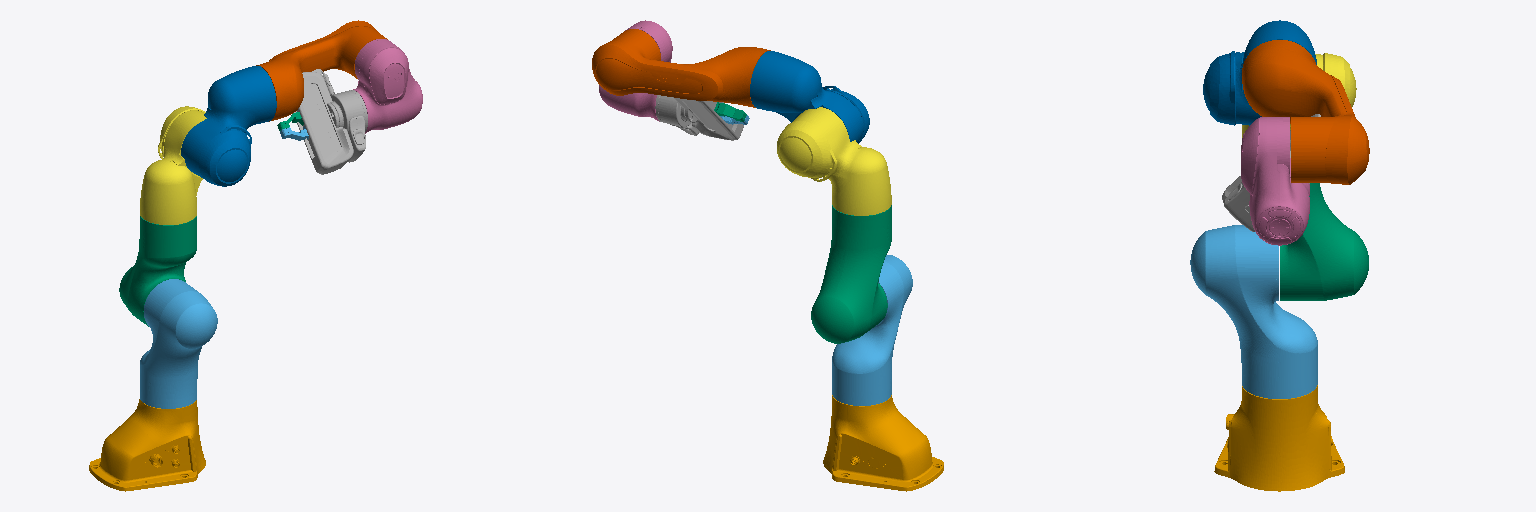
robot.urdf — panda:
<?xml version='1.0' encoding='utf-8'?>
<robot name="panda">

	<link name="link0">
		<inertial>
			<origin xyz="0 0 0.05" rpy="0 0 0" />
			<mass value="4" />
			<inertia ixx="0.4" iyy="0.4" izz="0.4" ixy="0" ixz="0" iyz="0" />
		</inertial>
		<visual>
			<geometry>
				<mesh filename="meshes/visual/link0.obj"/>
			</geometry>
		</visual>
		<!-- <collision>
			<geometry>
				<mesh filename="meshes/collision/link0.obj"/>
			</geometry>
		</collision> -->
	</link>
	<link name="link1">
		<inertial>
			<origin xyz="0 0 -0.07" rpy="0 -0 0" />
			<mass value="3" />
			<inertia ixx="0.3" iyy="0.3" izz="0.3" ixy="0" ixz="0" iyz="0" />
		</inertial>
		<visual>
			<geometry>
				<mesh filename="meshes/visual/link1.obj"/>
			</geometry>
		</visual>
		<!-- <collision>
			<geometry>
				<mesh filename="meshes/collision/link1.obj"/>
			</geometry>
		</collision> -->
	</link>
	<link name="link2">
		<inertial>
			<origin xyz="0 -0.1 0" rpy="0 -0 0" />
			<mass value="3" />
			<inertia ixx="0.3" iyy="0.3" izz="0.3" ixy="0" ixz="0" iyz="0" />
		</inertial>
		<visual>
			<geometry>
				<mesh filename="meshes/visual/link2.obj"/>
			</geometry>
		</visual>
		<!-- <collision>
			<geometry>
				<mesh filename="meshes/collision/link2.obj"/>
			</geometry>
		</collision> -->
	</link>
	<link name="link3">
		<inertial>
			<origin xyz="0.04 0 -0.05" rpy="0 -0 0" />
			<mass value="2" />
			<inertia ixx="0.2" iyy="0.2" izz="0.2" ixy="0" ixz="0" iyz="0" />
		</inertial>
		<visual>
			<geometry>
				<mesh filename="meshes/visual/link3.obj"/>
			</geometry>
		</visual>
		<!-- <collision>
			<geometry>
				<mesh filename="meshes/collision/link3.obj"/>
			</geometry>
		</collision> -->
	</link>
	<link name="link4">
		<inertial>
			<origin xyz="-0.04 0.05 0" rpy="0 -0 0" />
			<mass value="2" />
			<inertia ixx="0.2" iyy="0.2" izz="0.2" ixy="0" ixz="0" iyz="0" />
		</inertial>
		<visual>
			<geometry>
				<mesh filename="meshes/visual/link4.obj"/>
			</geometry>
		</visual>
		<!-- <collision>
			<geometry>
				<mesh filename="meshes/collision/link4.obj"/>
			</geometry>
		</collision> -->
	</link>
	<link name="link5">
		<inertial>
			<origin xyz="0 0 -0.15" rpy="0 -0 0" />
			<mass value="2" />
			<inertia ixx="0.2" iyy="0.2" izz="0.2" ixy="0" ixz="0" iyz="0" />
		</inertial>
		<visual>
			<geometry>
				<mesh filename="meshes/visual/link5.obj"/>
			</geometry>
		</visual>
		<!-- <collision>
			<geometry>
				<mesh filename="meshes/collision/link5.obj"/>
			</geometry>
		</collision> -->
	</link>
	<link name="link6">
		<inertial>
			<origin xyz="0.06 0 0" rpy="0 -0 0" />
			<mass value="1.5" />
			<inertia ixx="0.1" iyy="0.1" izz="0.1" ixy="0" ixz="0" iyz="0" />
		</inertial>
		<visual>
			<geometry>
				<mesh filename="meshes/visual/link6.obj"/>
			</geometry>
		</visual>
		<!-- <collision>
			<geometry>
				<mesh filename="meshes/collision/link6.obj"/>
			</geometry>
		</collision> -->
	</link>
	<link name="link7">
		<inertial>
			<origin xyz="0 0 0.17" rpy="0 -0 0" />
			<mass value="1.8" />
			<inertia ixx="0.09" iyy="0.05" izz="0.07" ixy="0" ixz="0" iyz="0" />
		</inertial>
		<visual>
			<geometry>
				<mesh filename="meshes/visual/link7.obj"/>
			</geometry>
		</visual>
		<!-- <collision>
			<geometry>
				<mesh filename="meshes/collision/link7.obj"/>
			</geometry>
		</collision> -->
		<visual>
			<origin xyz="0 0 0.107" rpy="0 0 -0.78539816339" />
			<geometry>
				<mesh filename="meshes/visual/hand.obj"/>
			</geometry>
		</visual>
		<!-- <collision>
			<origin xyz="0 0 0.107" rpy="0 0 -0.78539816339" />
			<geometry>
				<mesh filename="meshes/collision/hand.obj"/>
			</geometry>
		</collision> -->
	</link>
	<link name="end-effector">
		<inertial>
			<origin xyz="0 0 0" rpy="0 -0 0" />
			<mass value="0.05" />
			<inertia ixx="0.01" iyy="0.01" izz="0.01" ixy="0" ixz="0" iyz="0" />
		</inertial>
	</link>

    <link name="leftfinger">
		<inertial>
			<origin xyz="0 0 0.05" rpy="0 -0 0" />
			<mass value="0.1" />
			<inertia ixx="0.01" iyy="0.01" izz="0.005" ixy="0" ixz="0" iyz="0" />
		</inertial>
		<visual>
			<geometry>
				<mesh filename="meshes/visual/finger.obj"/>
			</geometry>
		</visual>
		<!-- <collision>
			<geometry>
				<mesh filename="meshes/collision/finger.obj"/>
			</geometry>
		</collision> -->
		<collision>
			<origin xyz="0 0.0025 0.046" rpy="1.57079632679 -0 0" />
			<geometry>
				<cylinder radius="0.008" length="0.005"/>
			</geometry>
		</collision>
	</link>
	<link name="rightfinger">
		<inertial>
			<origin xyz="0 0 0.05" rpy="0 -0 0" />
			<mass value="0.1" />
			<inertia ixx="0.01" iyy="0.01" izz="0.005" ixy="0" ixz="0" iyz="0" />
		</inertial>
		<visual>
			<geometry>
				<mesh filename="meshes/visual/finger.obj"/>
			</geometry>
		</visual>
		<!-- <collision>
			<geometry>
				<mesh filename="meshes/collision/finger.obj"/>
			</geometry>
		</collision> -->
		<collision>
			<origin xyz="0 0.0025 0.046" rpy="1.57079632679 -0 0" />
			<geometry>
				<cylinder radius="0.008" length="0.005"/>
			</geometry>
		</collision>
    </link>

	<joint name="joint1" type="revolute">
		<safety_controller k_position="100.0" k_velocity="40.0" soft_lower_limit="-2.8973" soft_upper_limit="2.8973"/>
		<origin rpy="0 0 0" xyz="0 0 0.333"/>
		<parent link="link0"/>
		<child link="link1"/>
		<axis xyz="0 0 1"/>
		<calibration falling="0.0" />
		<limit effort="87" lower="-2.8973" upper="2.8973" velocity="2.1750"/>
	</joint>
	<joint name="joint2" type="revolute">
		<safety_controller k_position="100.0" k_velocity="40.0" soft_lower_limit="-1.7628" soft_upper_limit="1.7628"/>
		<origin rpy="-1.57079632679 0 0" xyz="0 0 0"/>
		<parent link="link1"/>
		<child link="link2"/>
		<axis xyz="0 0 1"/>
		<calibration falling="-25.0" />
		<limit effort="87" lower="-1.7628" upper="1.7628" velocity="2.1750"/>
	</joint>
	<joint name="joint3" type="revolute">
		<safety_controller k_position="100.0" k_velocity="40.0" soft_lower_limit="-2.8973" soft_upper_limit="2.8973"/>
		<origin rpy="1.57079632679 0 0" xyz="0 -0.316 0"/>
		<parent link="link2"/>
		<child link="link3"/>
		<axis xyz="0 0 1"/>
		<limit effort="87" lower="-2.8973" upper="2.8973" velocity="2.1750"/>
	</joint>
	<joint name="joint4" type="revolute">
		<safety_controller k_position="100.0" k_velocity="40.0" soft_lower_limit="-3.0718" soft_upper_limit="-0.0698"/>
		<origin rpy="1.57079632679 0 0" xyz="0.0825 0 0"/>
		<parent link="link3"/>
		<child link="link4"/>
		<axis xyz="0 0 1"/>
		<calibration falling="-135.0" />
		<limit effort="87" lower="-3.0718" upper="-0.0698" velocity="2.1750"/>
	</joint>
	<joint name="joint5" type="revolute">
		<safety_controller k_position="100.0" k_velocity="40.0" soft_lower_limit="-2.8973" soft_upper_limit="2.8973"/>
		<origin rpy="-1.57079632679 0 0" xyz="-0.0825 0.384 0"/>
		<parent link="link4"/>
		<child link="link5"/>
		<axis xyz="0 0 1"/>
		<calibration falling="0.0" />
		<limit effort="12" lower="-2.8973" upper="2.8973" velocity="2.6100"/>
	</joint>
	<joint name="joint6" type="revolute">
		<safety_controller k_position="100.0" k_velocity="40.0" soft_lower_limit="-0.0175" soft_upper_limit="3.7525"/>
		<origin rpy="1.57079632679 0 0" xyz="0 0 0"/>
		<parent link="link5"/>
		<child link="link6"/>
		<axis xyz="0 0 1"/>
		<calibration falling="105.0" />
		<limit effort="12" lower="-0.0175" upper="3.7525" velocity="2.6100"/>
	</joint>
	<joint name="joint7" type="revolute">
		<safety_controller k_position="100.0" k_velocity="40.0" soft_lower_limit="-2.8973" soft_upper_limit="2.8973"/>
		<origin rpy="1.57079632679 0 0" xyz="0.088 0 0"/>
		<parent link="link6"/>
		<child link="link7"/>
		<axis xyz="0 0 1"/>
		<limit effort="12" lower="-2.8973" upper="2.8973" velocity="2.6100"/>
	</joint>
	<joint name="joint_ee" type="fixed">
		<origin rpy="0 0 0" xyz="0 0 0.212"/>
		<parent link="link7"/>
		<child link="end-effector"/>
	</joint>

    <joint name="finger_joint1" type="prismatic">
		<parent link="link7"/>
		<child link="leftfinger"/>
		<origin xyz="0 0 0.1654" rpy="0 0 -0.78539816339"/>
		<axis xyz="0 1 0"/>
		<calibration rising="0.02" />
		<limit effort="20" lower="0.0" upper="0.04" velocity="0.2"/>
    </joint>
    <joint name="finger_joint2" type="prismatic">
		<parent link="link7"/>
		<child link="rightfinger"/>
		<origin xyz="0 0 0.1654" rpy="0 0 2.35619449019"/>
		<axis xyz="0 1 0"/>
		<calibration rising="0.02" />
		<limit effort="20" lower="0.0" upper="0.04" velocity="0.2"/>
	</joint>
</robot>

--- What the picture shows (computed from the rendered views, not written in the file) ---
The picture shows the robot from 3 angles, left to right: view 1: azimuth 30°, elevation 25°; view 2: azimuth 150°, elevation 25°; view 3: azimuth 270°, elevation 25°; orthographic projection.
Model panda with 11 links and 10 joints (7 revolute, 2 prismatic, 1 fixed), rooted at link0, posed all joints at 0 but 1 set to mid-range because 0 is outside their limits (joint4 = -1.57).
Visible links, largest first — view 1: link0, link1, link4, link7, link3, link5, link6, link2; view 2: link0, link5, link2, link3, link1, link4, link7, link6; view 3: link1, link5, link0, link2, link6, link4, link7, link3.
Boxes of the visible links, <box> form: link0: <box>89,399,205,491</box>; link1: <box>140,279,217,408</box>; link4: <box>181,66,276,186</box>; link7: <box>294,69,367,174</box>; link3: <box>140,106,206,224</box>; link5: <box>256,20,387,121</box>; link6: <box>353,39,422,133</box>; link2: <box>119,216,196,326</box>; link0: <box>823,395,943,491</box>; link5: <box>592,29,770,107</box>; link2: <box>811,205,891,343</box>; link3: <box>777,107,891,215</box>; link1: <box>832,255,912,405</box>; link4: <box>750,51,869,143</box>; link7: <box>655,95,743,140</box>; link6: <box>599,20,672,121</box>; link1: <box>1190,225,1317,398</box>; link5: <box>1242,40,1369,184</box>; link0: <box>1214,385,1344,491</box>; link2: <box>1280,183,1368,300</box>; link6: <box>1241,117,1309,245</box>; link4: <box>1203,20,1316,125</box>; link7: <box>1222,114,1320,231</box>; link3: <box>1242,53,1356,137</box>.
Size in the robot's own frame: 0.7022 by 0.2593 by 0.7865 metres.
11 mesh visuals loaded from 10 distinct referenced files (10 OBJ).